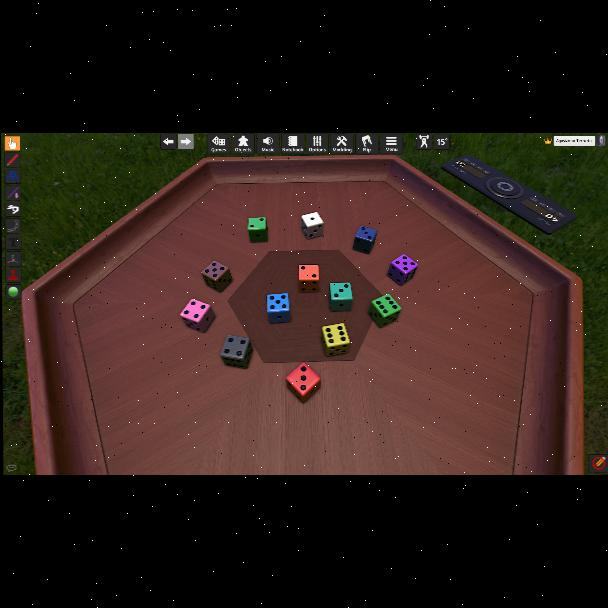d6: (286, 364, 320, 403), (180, 299, 214, 333), (219, 336, 250, 370), (368, 294, 399, 328), (321, 323, 350, 357), (201, 261, 231, 293), (388, 254, 416, 286), (266, 293, 290, 323), (329, 282, 353, 312), (352, 226, 376, 256), (300, 212, 323, 241), (298, 264, 320, 292), (248, 217, 268, 243)
